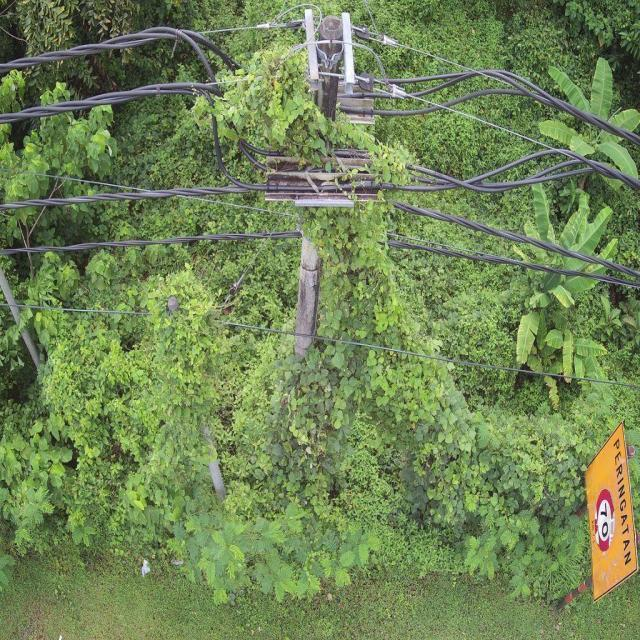critical vegetation: (175, 33, 476, 432)
